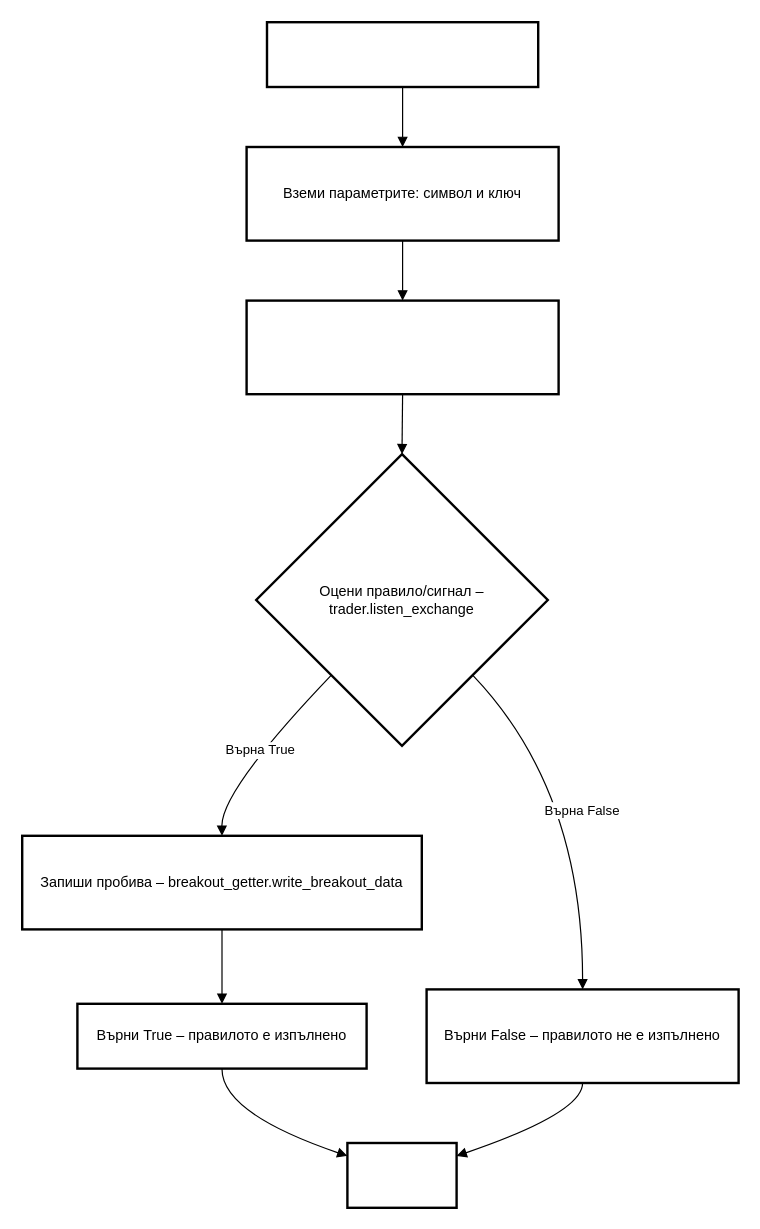
This 760x1229 diagram has some shape labels left out. Here are the shapes that lost their labels. From the top down, the centre of each, then its label:
the point at 402,54: Старт: функция main
the point at 402,347: Извлечи OHLCV данни – data_getter.get_ohlcv_data
the point at 401,1174: Край
